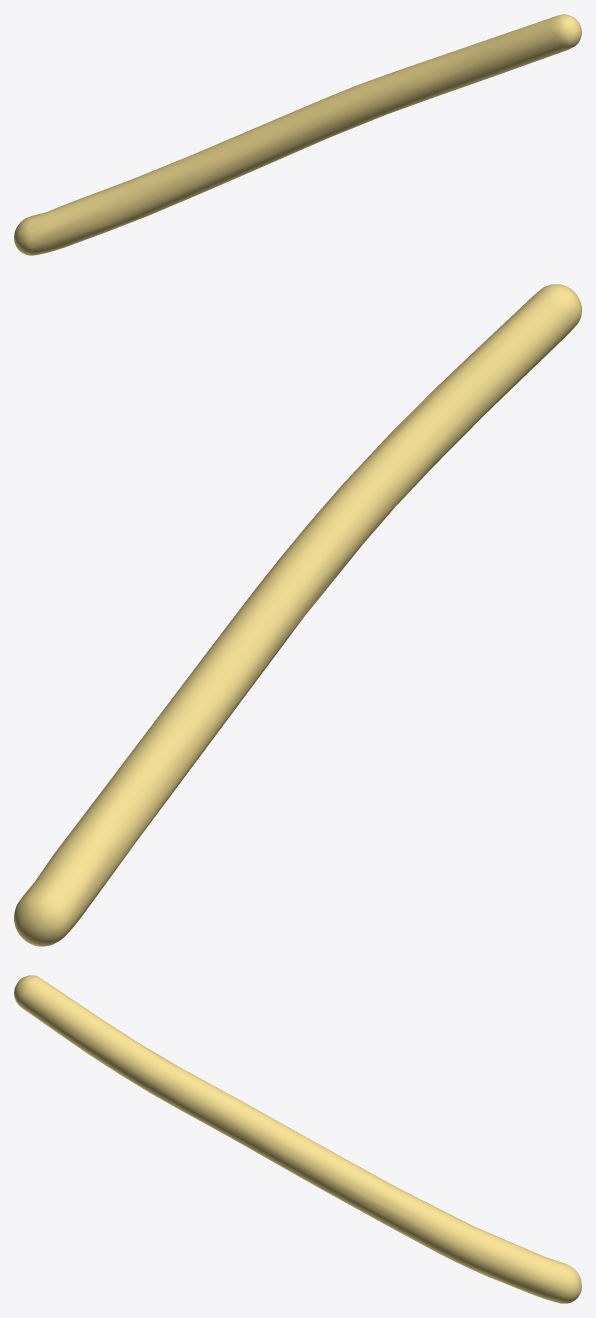
Rendered from fma52639_fj1341.glb.
3 views of the same model, one above another, from view 1: azimuth 90°, elevation 25°; view 2: azimuth 150°, elevation 25°; view 3: azimuth 270°, elevation 25° (orthographic). The views are drawn at different scales.
Parts seen in each view (by area): view 1: FMA52639_FJ1341; view 2: FMA52639_FJ1341; view 3: FMA52639_FJ1341.
Boxes of the visible parts, left/top/right/bottom form: FMA52639_FJ1341: left=14, top=14, right=581, bottom=255; FMA52639_FJ1341: left=14, top=284, right=581, bottom=946; FMA52639_FJ1341: left=14, top=975, right=581, bottom=1303.
Size of the model in its own units: 0.00538 by 0.0118 by 0.0216.
